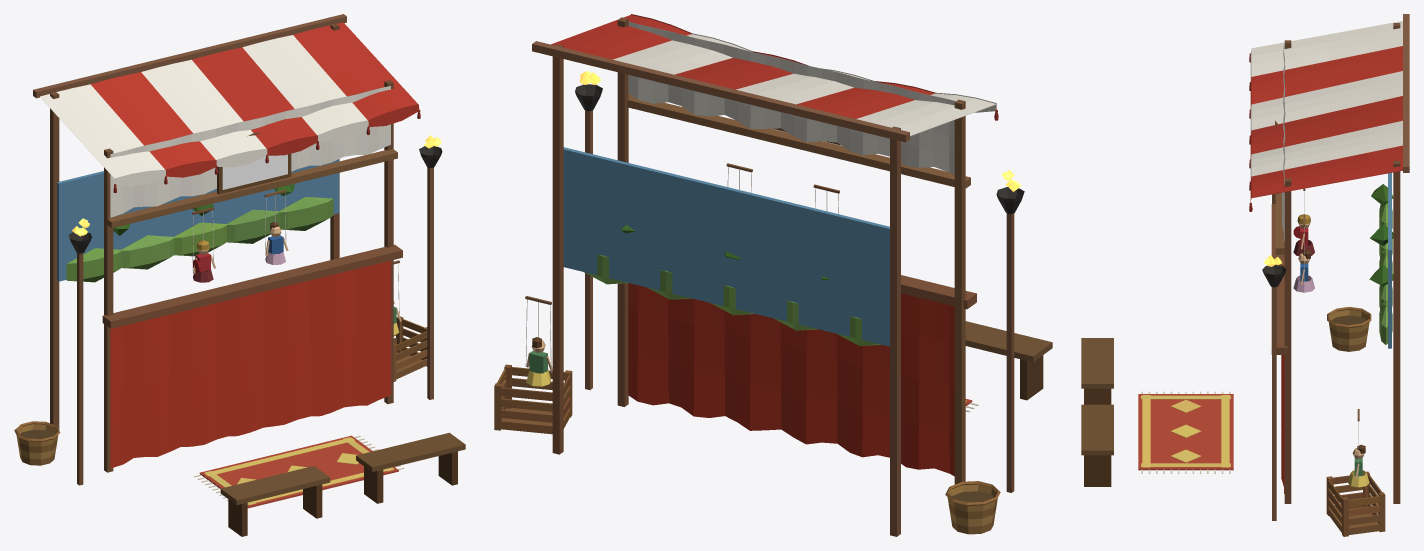
The model's file is mon_puppets.glb.
The picture shows the model from 3 angles, left to right: view 1: azimuth 30°, elevation 25°; view 2: azimuth 150°, elevation 25°; view 3: azimuth 270°, elevation 25°; orthographic projection. The views are drawn at different scales.
Visible parts, largest first — view 1: House; view 2: House; view 3: House.
Boxes of the visible parts, <box> form: House: <box>14,14,465,536</box>; House: <box>494,14,1052,536</box>; House: <box>1081,14,1409,536</box>.
Size of the model in its own units: 3.52 by 2.79 by 2.41.
5 materials, 5 textured.
